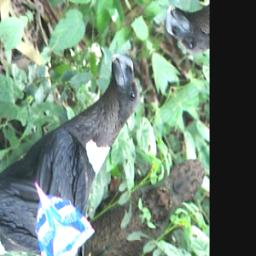Crow: (13, 43, 178, 245)
